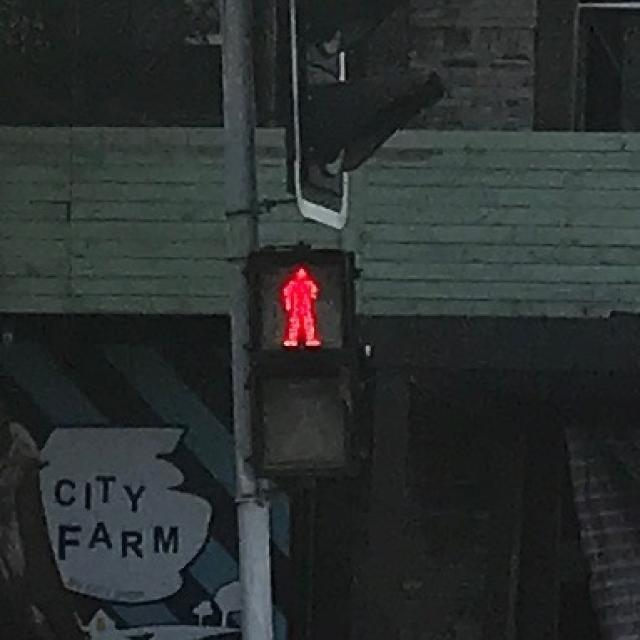red-crossing: (254, 257, 343, 351)
